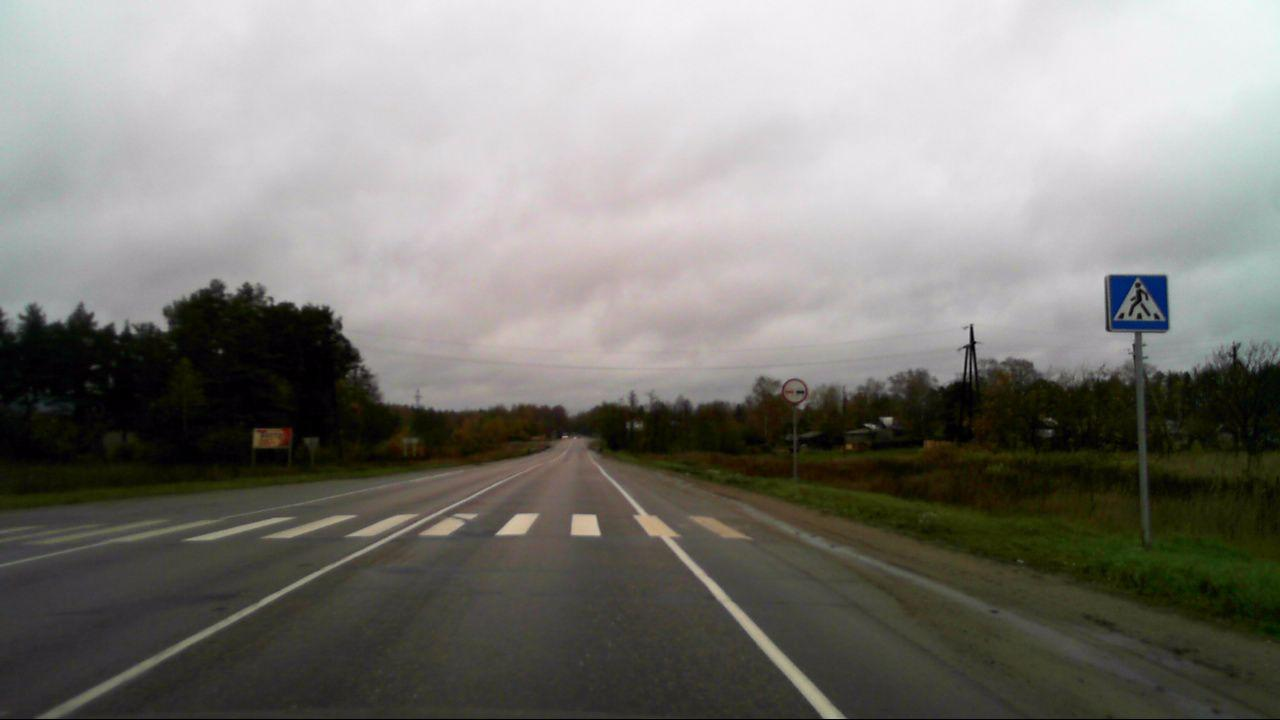road_sign: (1106, 273, 1172, 334)
